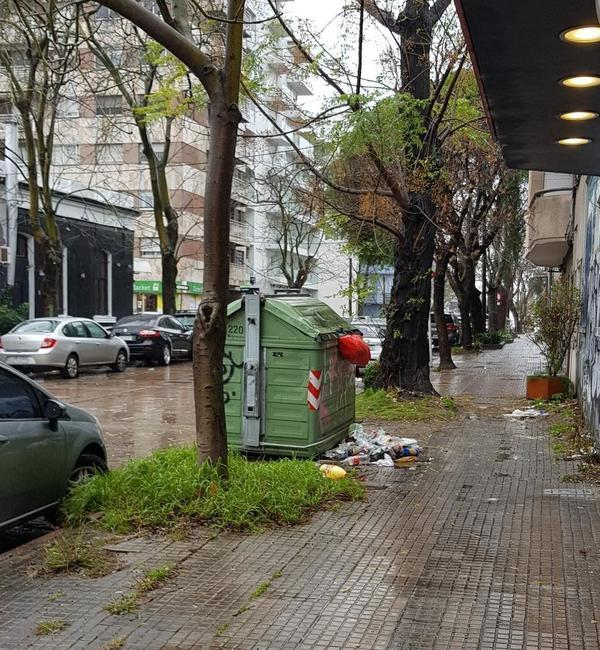Dechets: (319, 423, 422, 472), (338, 330, 371, 370), (502, 403, 550, 426), (317, 462, 348, 480)
Trash: (223, 287, 357, 458)
